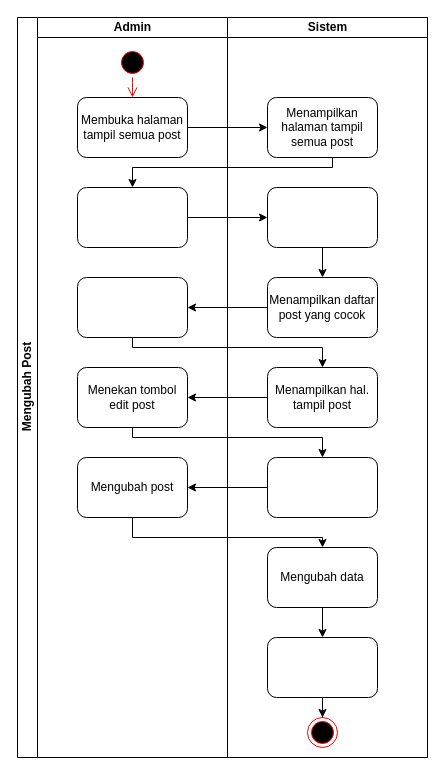
This 445x775 diagram has some shape labels left out. The shapes that lost their labels are listed below. From the top down, each one's centre as x and y in pixels, then its label:
At (x=132, y=217): "Mencari post".
At (x=322, y=217): "Mencari data".
At (x=132, y=307): "Memilih post".
At (x=322, y=487): "Menampilkan form ubah post".
At (x=322, y=667): "Menampilkan hal. tampil post denan pesan berhasil/gagal/error".
